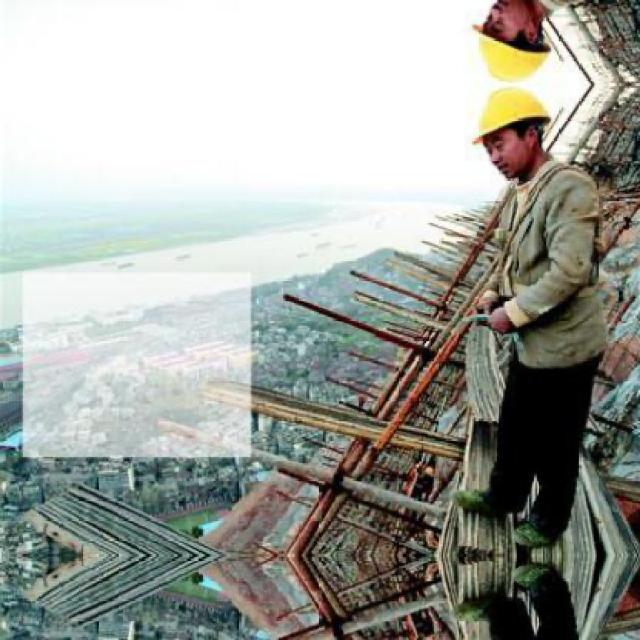con casco: (467, 78, 588, 186)
